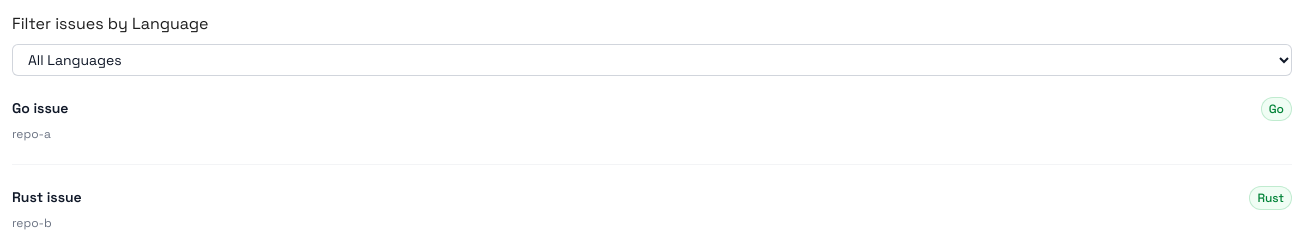
IssueList › filters out closed and assigned issues and lets users filter by language
Expected: the text "Go issue" is shown, [12,96,68,120]
Expected: the text "Rust issue" is shown, [12,185,82,209]
Select "Rust" in the dropdown at (652, 60), box [12,44,1292,76]
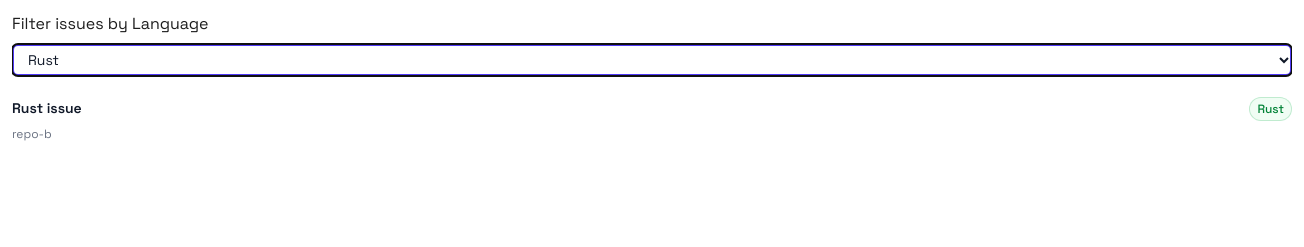
Expected: the text "Rust issue" is shown, [12,96,82,120]
Now the link "Go issue" is gone
